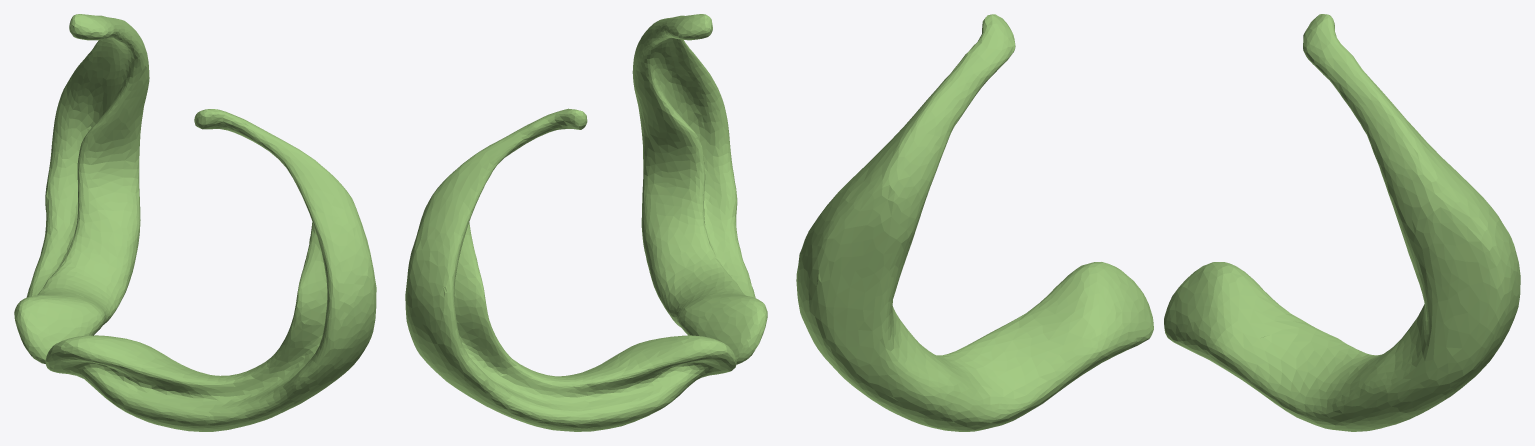
The picture shows the model from 3 angles, left to right: view 1: azimuth 30°, elevation 25°; view 2: azimuth 150°, elevation 25°; view 3: azimuth 270°, elevation 25°; orthographic projection. The views are drawn at different scales.
Visible parts, largest first — view 1: 726.obj; view 2: 726.obj; view 3: 726.obj.
Part boxes in pixels (left/top/right/bottom): 726.obj: left=14, top=14, right=376, bottom=431; 726.obj: left=405, top=14, right=767, bottom=431; 726.obj: left=796, top=14, right=1520, bottom=431.
Size of the model in its own units: 3144 by 4369 by 7045.
